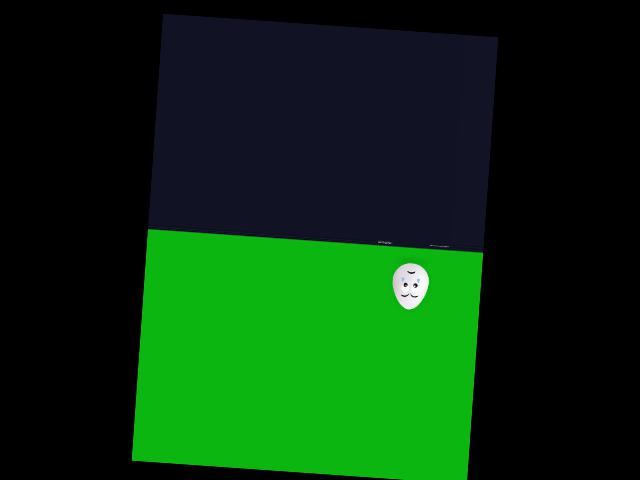egg: (390, 262, 430, 310)
